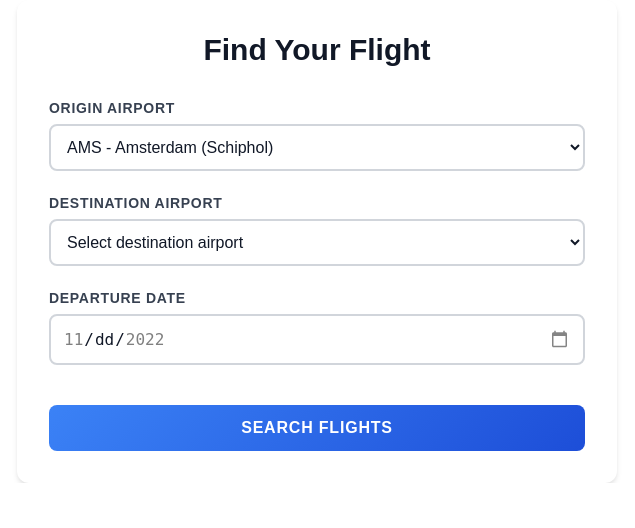
Scenario: SearchForm Component › Form validation › shows error when no departure date is selected
The width and height of the screenshot is (635, 528).
Select "CDG - Paris Charles de Gaulle" in the dropdown labelled "Destination Airport" at (317, 242), box x1=49 y1=219 x2=585 y2=266
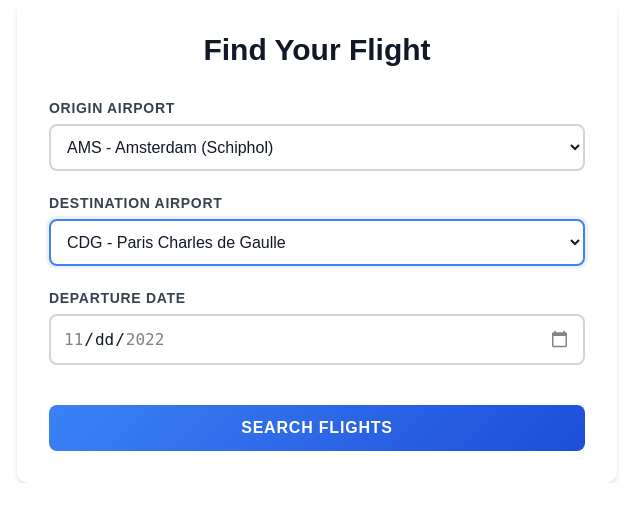
Click the button "Search Flights" at (317, 428), box x1=49 y1=405 x2=585 y2=451
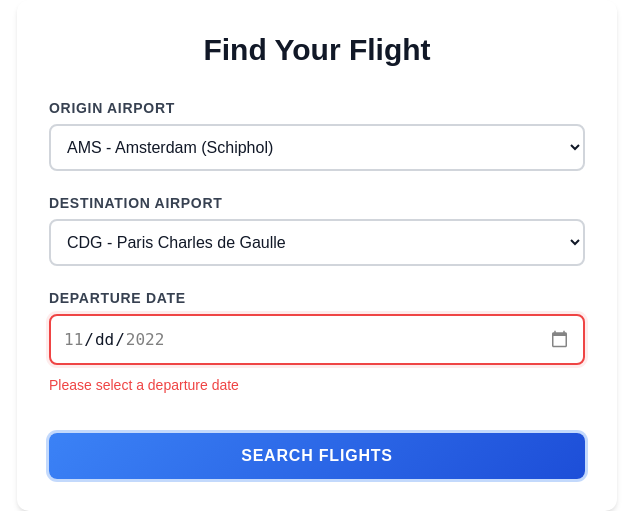
Expected: the text "Please select a departure date" is shown, x1=49 y1=377 x2=239 y2=393
